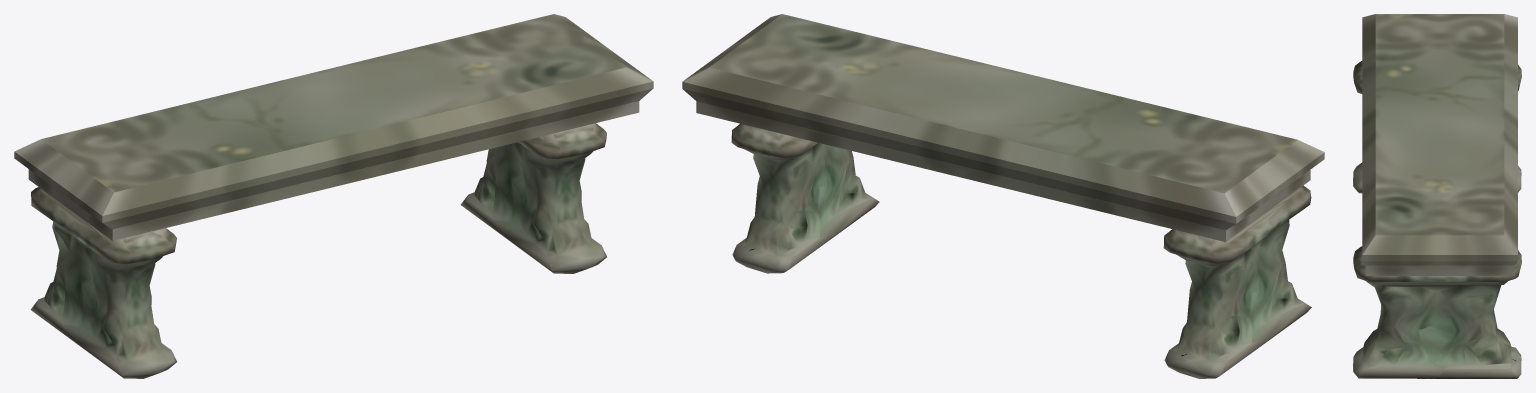
File: lowpolybench.fbx
3 views of the same model, side by side, from view 1: azimuth 30°, elevation 25°; view 2: azimuth 150°, elevation 25°; view 3: azimuth 270°, elevation 25° (orthographic). The views are drawn at different scales.
Parts seen in each view (by area): view 1: Cube.022, tableleg.003, tableleg.002; view 2: Cube.022, tableleg.003, tableleg.002; view 3: Cube.022, tableleg.002, tableleg.003.
Boxes of the visible parts, box(x1,y1,x2,y2) form: Cube.022: box(14, 14, 653, 240); tableleg.003: box(30, 187, 176, 378); tableleg.002: box(460, 123, 606, 273); Cube.022: box(682, 14, 1324, 241); tableleg.003: box(1163, 185, 1311, 378); tableleg.002: box(731, 123, 879, 273); Cube.022: box(1362, 14, 1517, 275); tableleg.002: box(1353, 246, 1521, 378); tableleg.003: box(1353, 61, 1521, 193).
Bounding box in the file's own units: 1481 × 470 × 445.
Materials: 3 (3 with a texture image).
